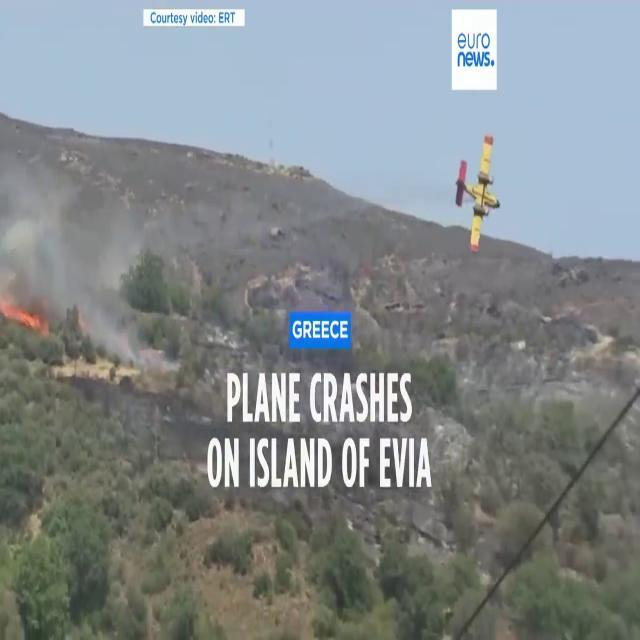Fire: (0, 293, 48, 339)
Smoke: (0, 133, 258, 375)
